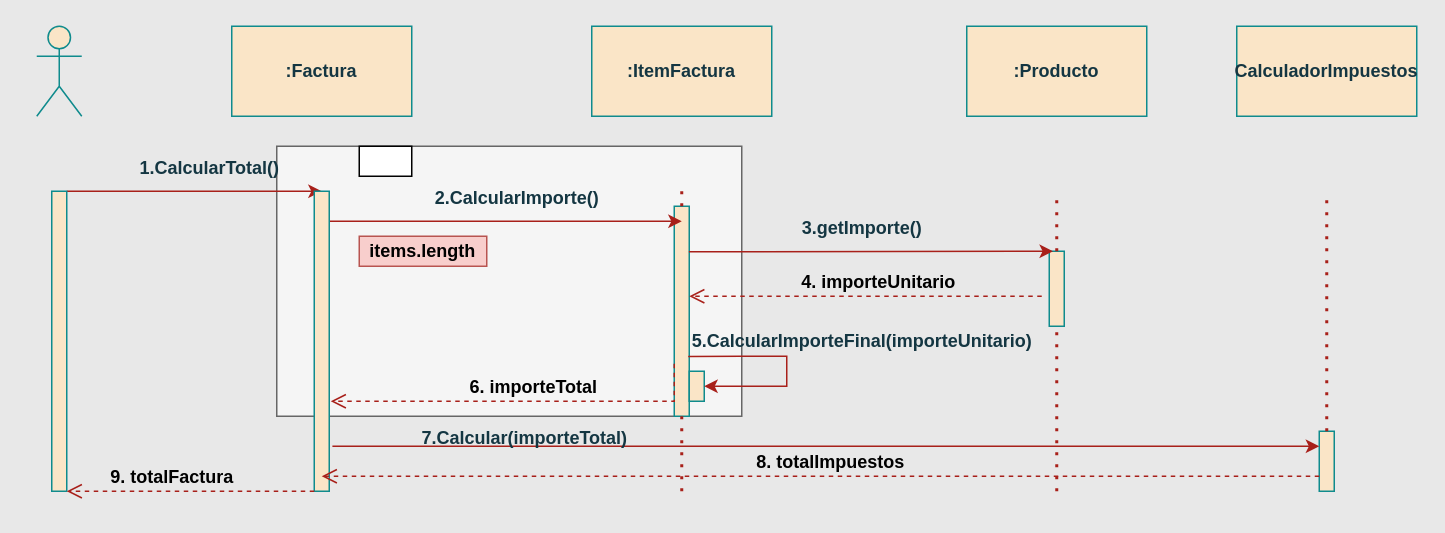
Some shapes in this 1445 by 533 pixel diagram are drawn without their labels. Here are the shapes that lost their labels. From the top down, the centre of each, then its label:
the point at 58,70: Usuario
the point at 385,160: loop
